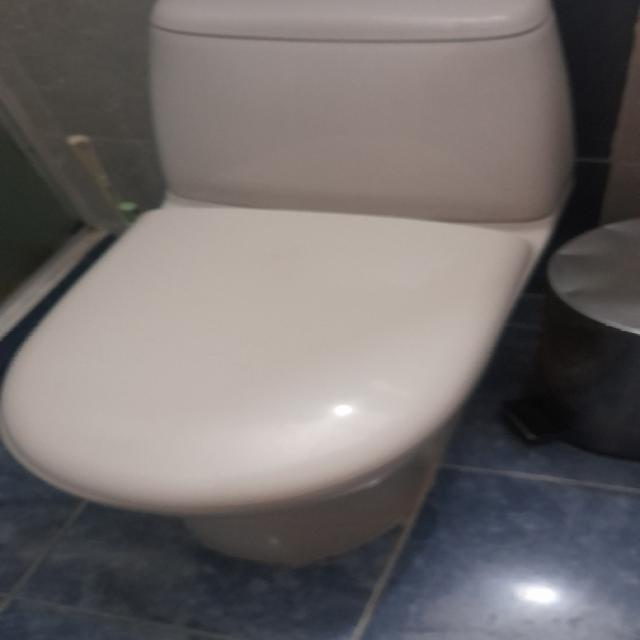toilet: (0, 0, 600, 566)
